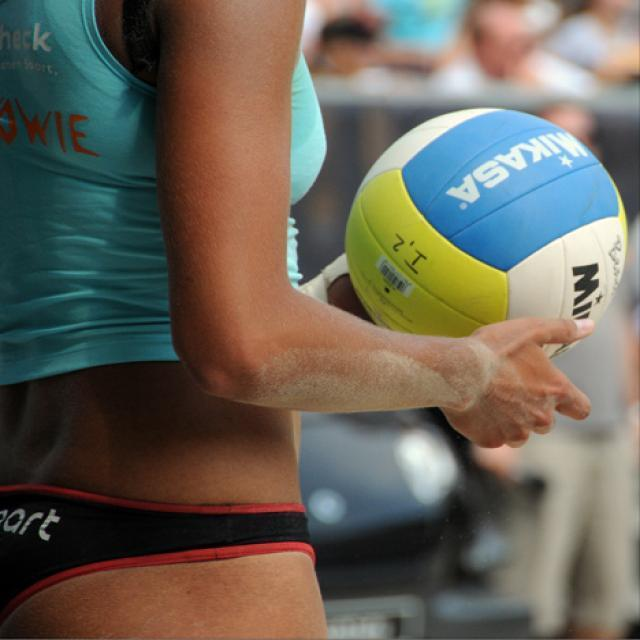volleyball: (346, 106, 628, 338)
